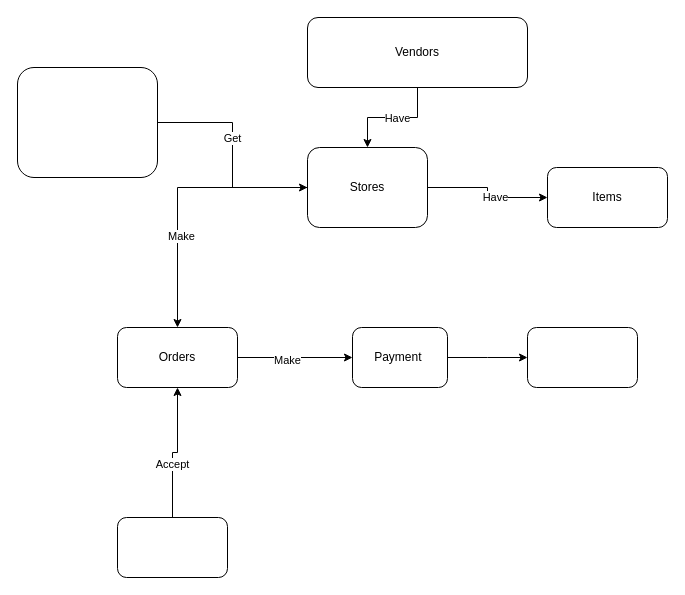
Some shapes in this 685 by 595 pixel diagram are drawn without their labels. The shapes that lost their labels are listed below. From the top down, each one's centre as x and y in pixels, then its label:
(x=87, y=122): Users
(x=582, y=357): Delivery
(x=172, y=547): Drivers
